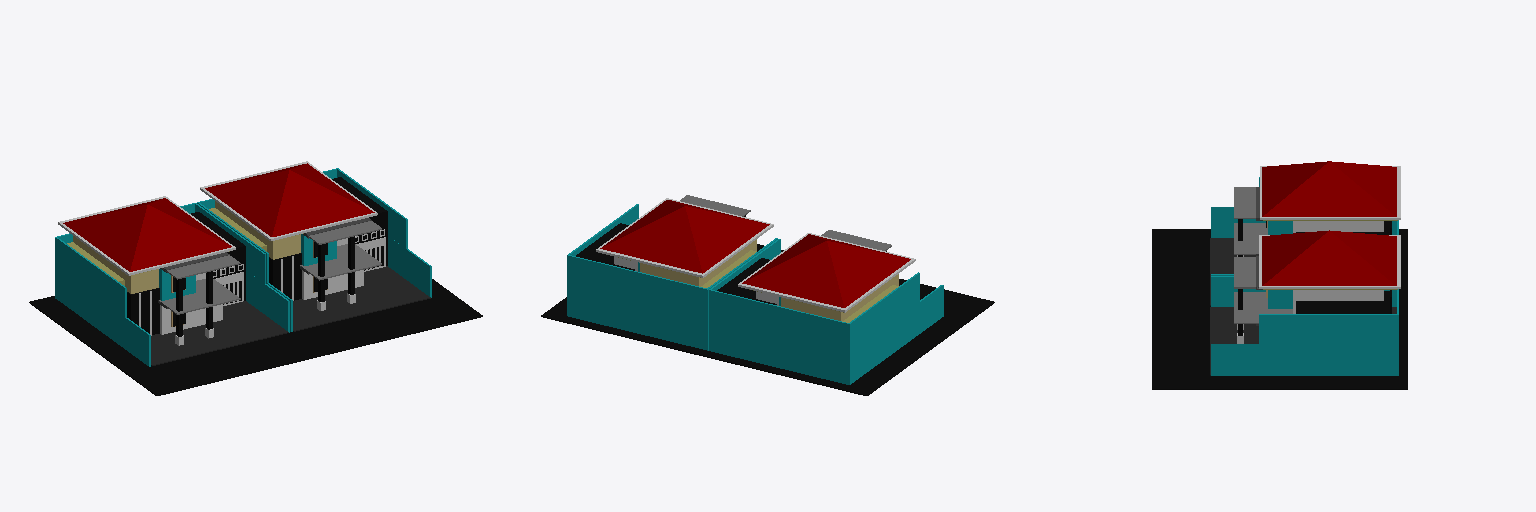
The picture shows the model from 3 angles: view 1: azimuth 30°, elevation 25°; view 2: azimuth 150°, elevation 25°; view 3: azimuth 270°, elevation 25°; orthographic projection.
Visible parts, largest first — view 1: 16_-_Default, 01_-_Default, 19_-_Default, 10_-_Default, 09_-_Default, 22_-_rt, 21_-_Default, 07_-_Default, 22_-_Default, 08_-_Default; view 2: 19_-_Default, 01_-_Default, 16_-_Default, 21_-_Default, 07_-_Default, 09_-_Default, 22_-_Default; view 3: 16_-_Default, 01_-_Default, 19_-_Default, 09_-_Default, 10_-_Default, 22_-_rt, 21_-_Default.
Boxes of the visible parts, x1,y1,x2,y2 form: 16_-_Default: [29, 177, 482, 395]; 01_-_Default: [63, 163, 374, 271]; 19_-_Default: [55, 168, 431, 366]; 10_-_Default: [151, 266, 430, 365]; 09_-_Default: [159, 221, 381, 314]; 22_-_rt: [139, 229, 385, 345]; 21_-_Default: [58, 161, 377, 275]; 07_-_Default: [73, 201, 300, 293]; 22_-_Default: [67, 208, 303, 285]; 08_-_Default: [158, 218, 371, 308]; 19_-_Default: [567, 204, 943, 384]; 01_-_Default: [600, 200, 910, 307]; 16_-_Default: [541, 215, 994, 395]; 21_-_Default: [596, 198, 915, 312]; 07_-_Default: [640, 239, 898, 320]; 09_-_Default: [680, 195, 891, 250]; 22_-_Default: [618, 250, 898, 322]; 16_-_Default: [1152, 219, 1407, 389]; 01_-_Default: [1262, 161, 1396, 285]; 19_-_Default: [1211, 177, 1398, 375]; 09_-_Default: [1234, 187, 1292, 323]; 10_-_Default: [1210, 238, 1396, 375]; 22_-_rt: [1237, 221, 1383, 343]; 21_-_Default: [1259, 166, 1400, 288].
Size of the model in its own units: 487 by 154 by 331.